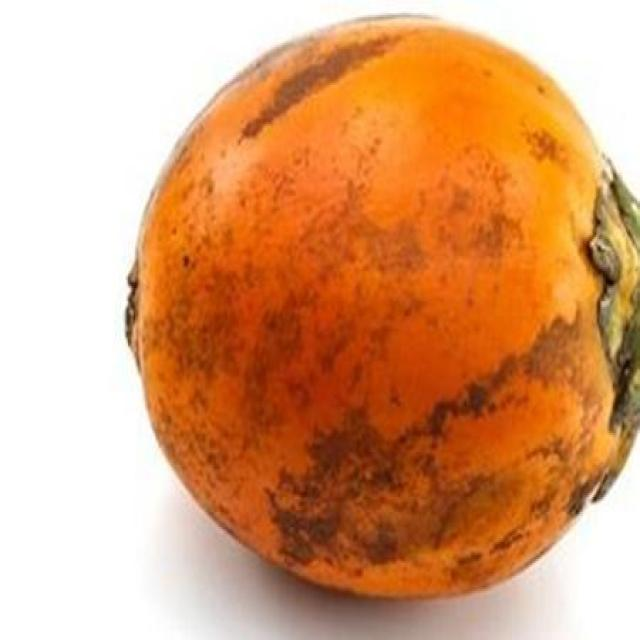good: (125, 19, 639, 604)
